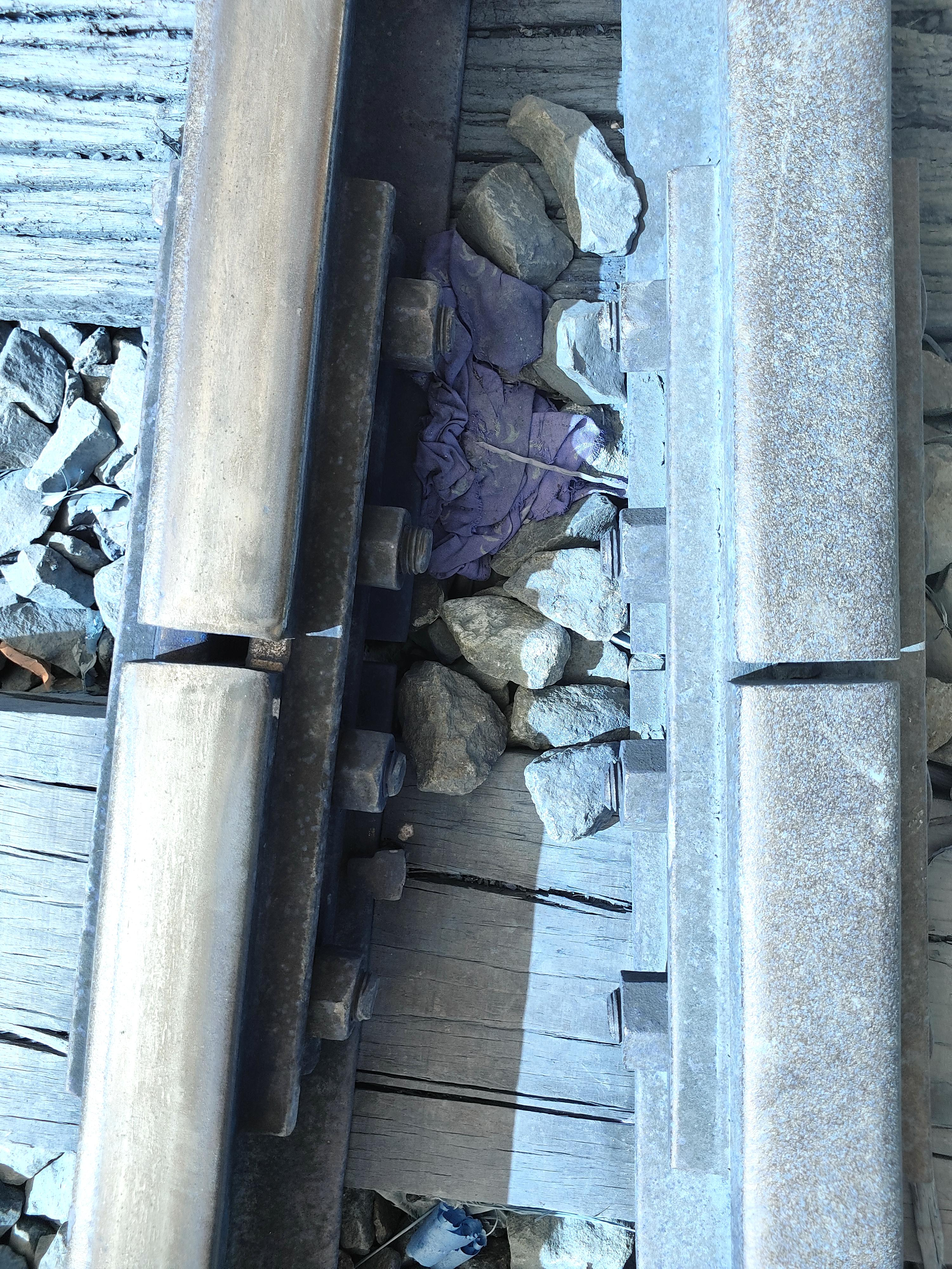duan lie: (109, 594, 287, 723), (729, 630, 913, 740)
